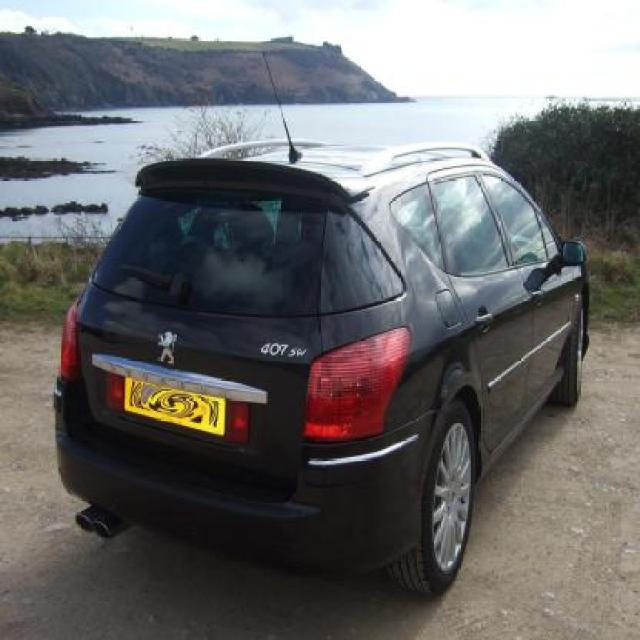Licenseplate: (115, 375, 214, 434)
